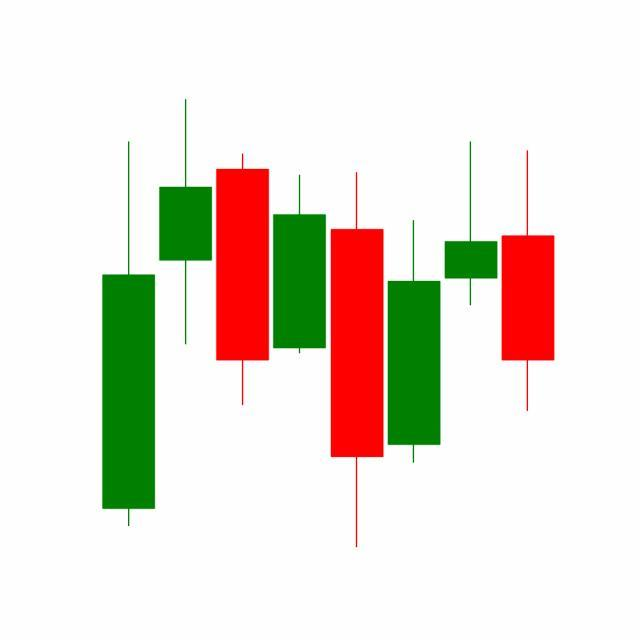Hikkake Pattern: (214, 137, 501, 548)
